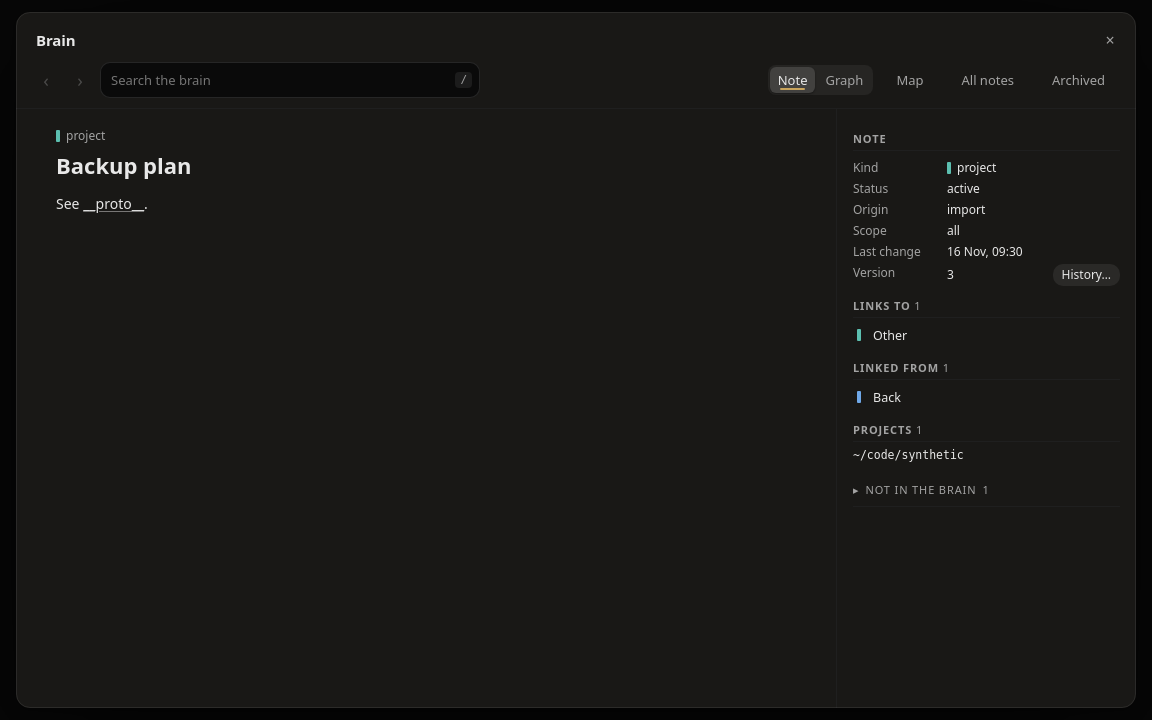
Test: Brain page after the post-delivery review (2026-11-20) › a link named __proto__ opens its note (recheck 2026-11-20)
Click the link "__proto__". click: click(114, 204)
box: [83,194,144,213]
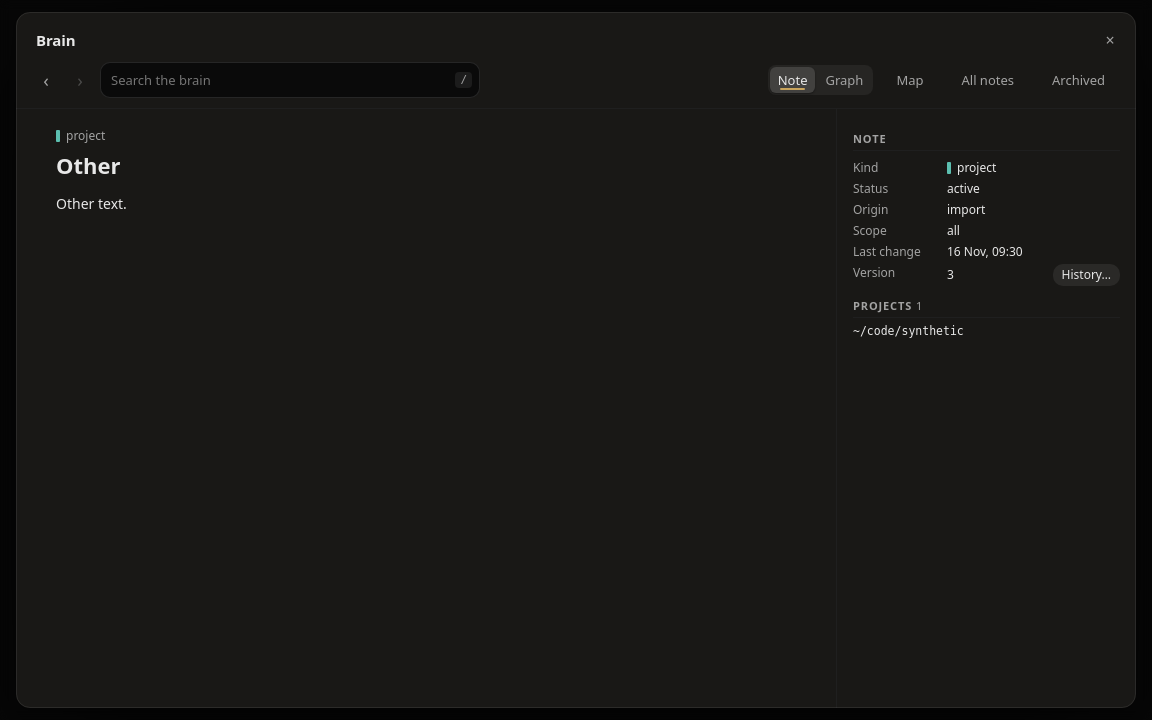
expect the heading with class "b-title" reads "Other": met, box [56,150,120,180]
